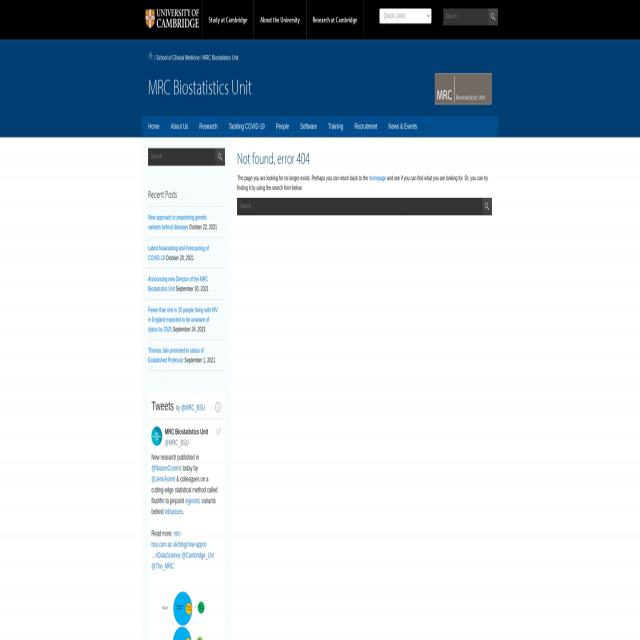button: (156, 580, 213, 640), (306, 0, 364, 38), (202, 0, 254, 38), (254, 0, 306, 38), (434, 74, 492, 104), (145, 8, 199, 29), (223, 117, 271, 137), (382, 117, 423, 137), (348, 117, 384, 137), (193, 117, 224, 137), (164, 117, 194, 137), (294, 117, 324, 137), (322, 117, 350, 137), (270, 117, 295, 137), (142, 117, 166, 137), (150, 426, 162, 446), (215, 148, 225, 166), (482, 198, 492, 216), (488, 8, 498, 25), (214, 424, 224, 438), (214, 402, 221, 413)
field: (237, 198, 491, 213), (148, 148, 224, 164), (379, 8, 432, 24), (443, 8, 479, 24)
